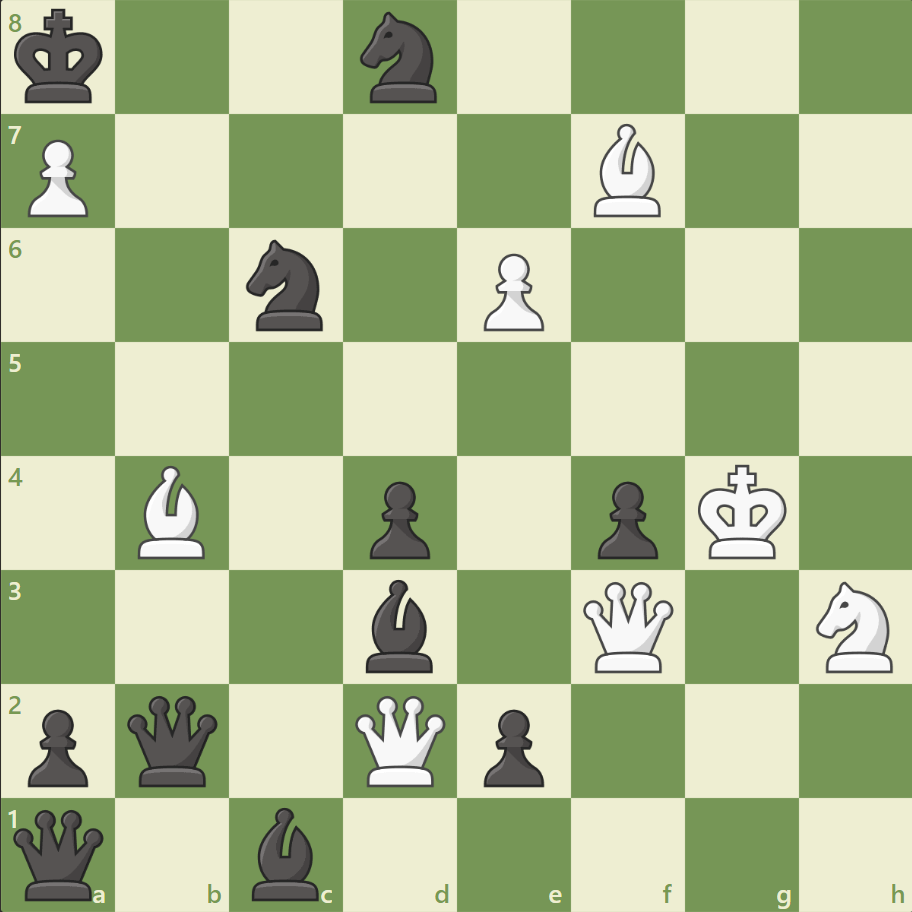B: (131, 460, 215, 563), (585, 120, 669, 222)
K: (692, 458, 792, 566)
N: (806, 575, 903, 677)
P: (20, 132, 95, 223), (474, 246, 549, 337)
Q: (578, 576, 677, 676), (351, 690, 450, 789)
b: (244, 801, 328, 904), (358, 574, 442, 676)
k: (11, 4, 111, 112)
n: (351, 7, 449, 110), (238, 234, 335, 337)
p: (20, 700, 95, 791), (474, 700, 549, 791), (361, 473, 435, 564), (588, 473, 662, 564)
q: (124, 690, 223, 789), (10, 804, 109, 903)
